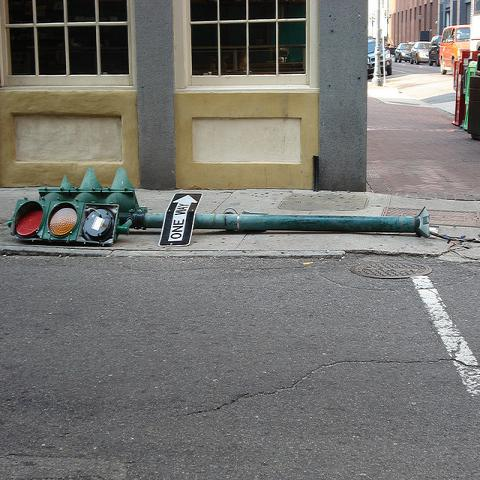car: (439, 24, 471, 76), (368, 40, 392, 78), (411, 40, 431, 64), (428, 35, 442, 66), (394, 43, 415, 63)
